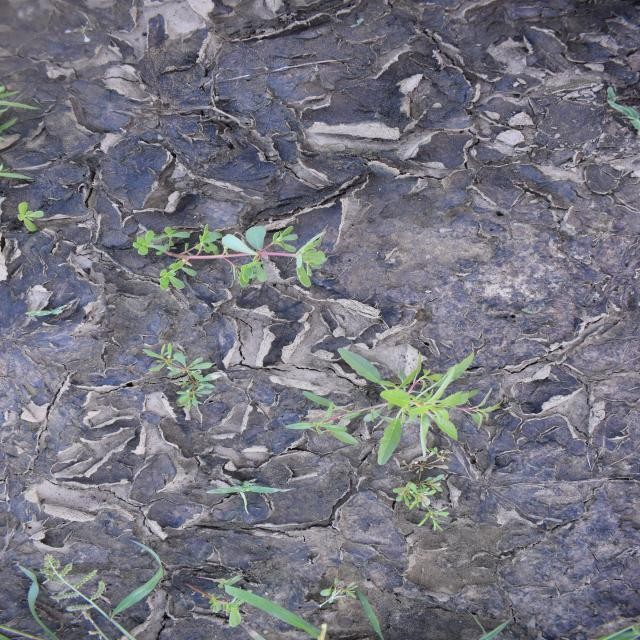Carpetweed: (140, 342, 226, 414), (390, 445, 454, 532)
Purslane: (132, 223, 329, 290), (13, 200, 46, 233)
Waterhemp: (284, 345, 506, 467)
